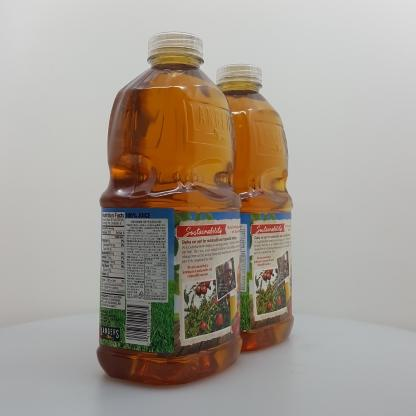-------------: (96, 31, 242, 386), (187, 64, 294, 352)
